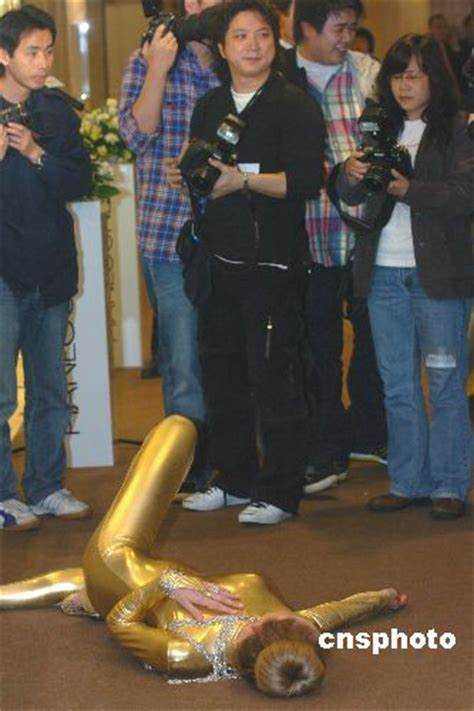fall: (13, 414, 413, 695)
